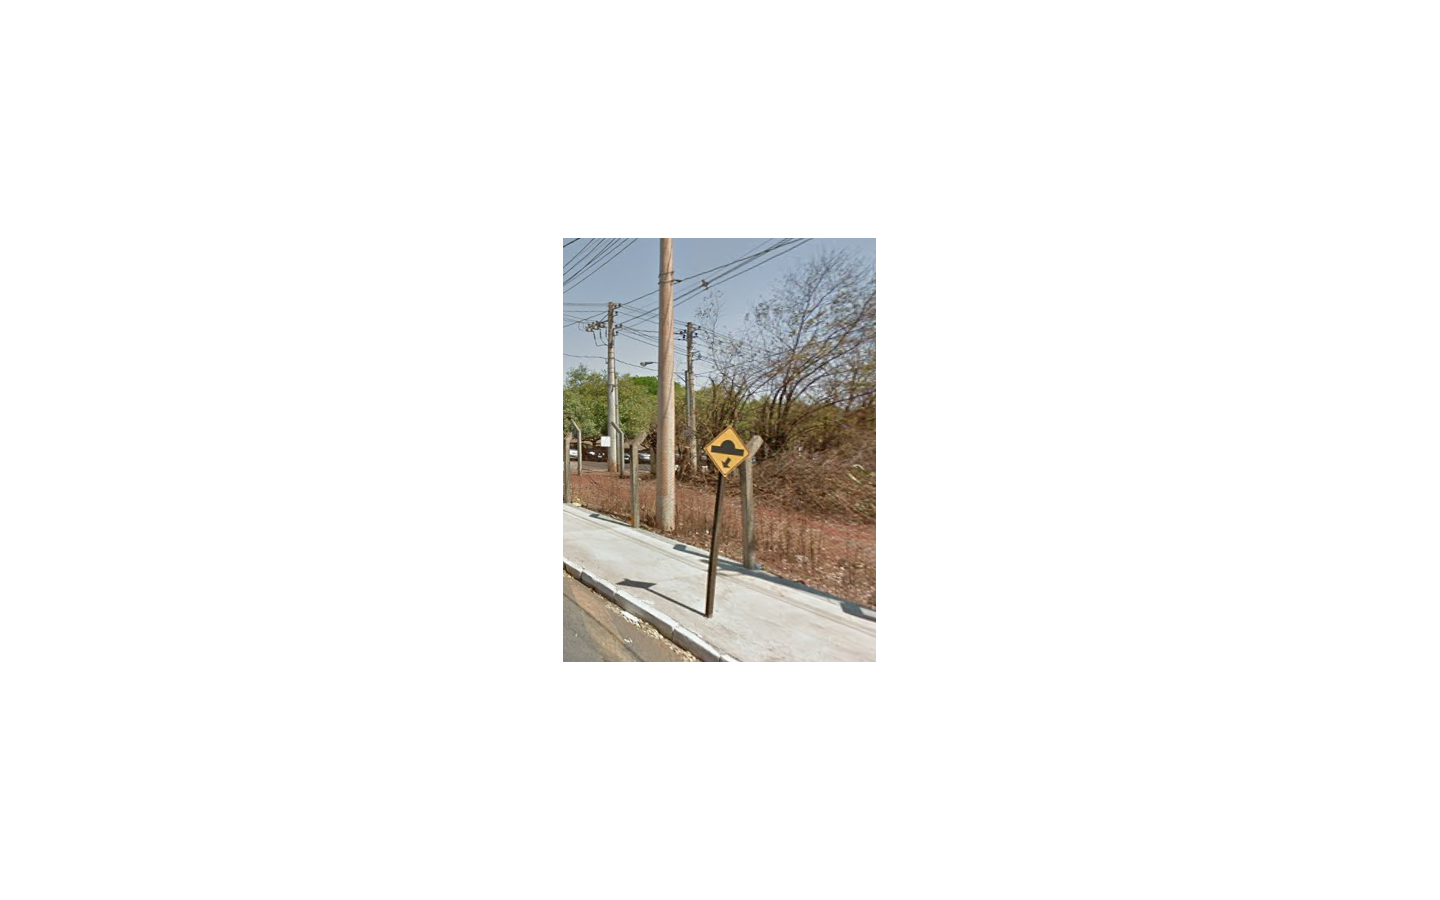lomb: (703, 426, 749, 476)
